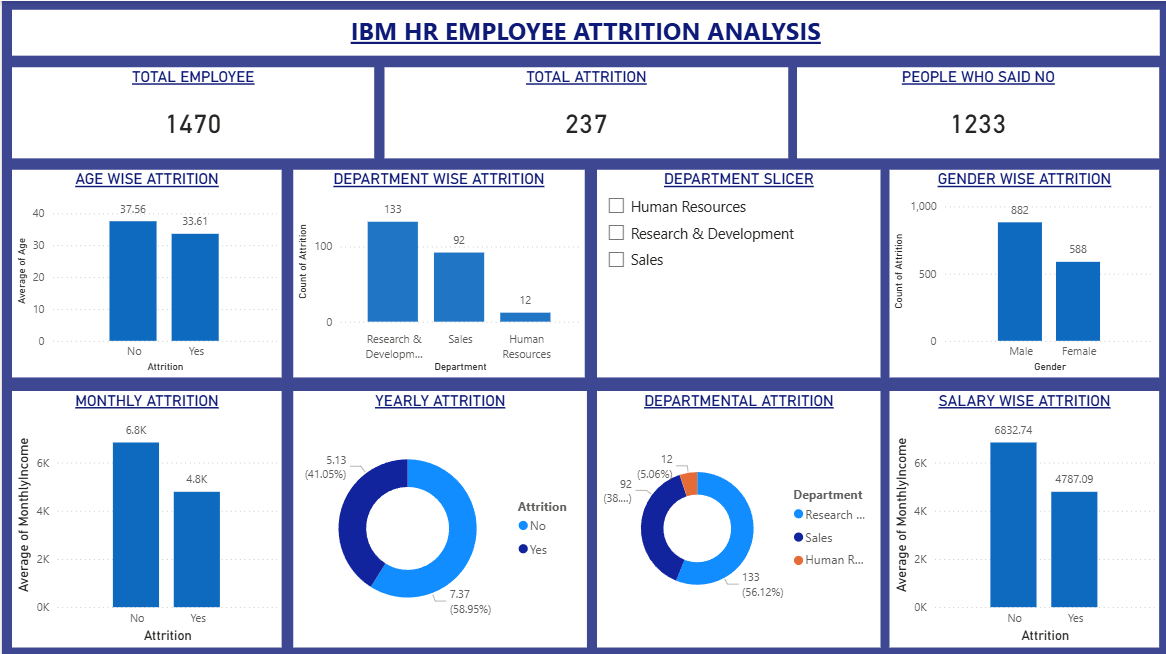

Layout of this report page (visuals, bound fields, positions):
{"tool":"powerbi","page":{"name":"Page 1","canvas":[1280,720],"ordinal":0},"visuals":[{"type":"clusteredColumnChart","title":"AGE WISE ATTRITION","fields":{"Category":["clean_hr.Attrition"],"Y":["Avg(clean_hr.Age)"]},"box":[11,185.2,296.4,227.8],"z":0},{"type":"donutChart","title":"DEPARTMENTAL ATTRITION","fields":{"Y":["CountNonNull(clean_hr.Attrition)"],"Category":["clean_hr.Department"]},"box":[653.2,428.1,311.5,281.3],"z":1000},{"type":"clusteredColumnChart","title":"MONTHLY ATTRITION","fields":{"Category":["clean_hr.Attrition"],"Y":["Avg(clean_hr.MonthlyIncome)"]},"box":[11,428.1,296.4,281.3],"z":2000},{"type":"card","title":"TOTAL EMPLOYEE","fields":{"Values":["CountNonNull(clean_hr.Attrition)"]},"box":[11,72.7,397.9,100.2],"z":3000},{"type":"card","title":"TOTAL ATTRITION","fields":{"Values":["CountNonNull(clean_hr.Attrition)"]},"box":[419.9,72.7,443.2,100.2],"z":4000},{"type":"card","title":"PEOPLE WHO SAID NO","fields":{"Values":["CountNonNull(clean_hr.Attrition)"]},"box":[872.7,72.7,397.9,100.2],"z":5000},{"type":"columnChart","title":"DEPARTMENT WISE ATTRITION","fields":{"Category":["clean_hr.Department"],"Y":["CountNonNull(clean_hr.Attrition)"]},"box":[319.7,185.2,319.7,227.8],"z":6000},{"type":"clusteredColumnChart","title":"SALARY WISE ATTRITION","fields":{"Category":["clean_hr.Attrition"],"Y":["Avg(clean_hr.MonthlyIncome)"]},"box":[974.3,428.1,296.4,281.3],"z":7000},{"type":"columnChart","title":"GENDER WISE ATTRITION","fields":{"Category":["clean_hr.Gender"],"Y":["CountNonNull(clean_hr.Attrition)"]},"box":[974.3,185.2,296.4,227.8],"z":8000},{"type":"donutChart","title":"YEARLY ATTRITION","fields":{"Category":["clean_hr.Attrition"],"Y":["Avg(clean_hr.YearsAtCompany)"]},"box":[319.7,428.1,322.5,281.3],"z":9000},{"type":"textbox","box":[11,9.6,1259.7,50.8],"z":10000},{"type":"slicer","title":"DEPARTMENT SLICER","fields":{"Values":["clean_hr.Department"]},"box":[653.2,185.2,311.5,227.8],"z":11000}]}

Visuals, with their boxes in screenshot pixels (x1, y1, x2, y2), scaled from the page's 1280x720 canvas onto the 1166x654 screenshot:
"AGE WISE ATTRITION" clusteredColumnChart: x1=10 y1=168 x2=280 y2=375
"DEPARTMENTAL ATTRITION" donutChart: x1=595 y1=389 x2=879 y2=644
"MONTHLY ATTRITION" clusteredColumnChart: x1=10 y1=389 x2=280 y2=644
"TOTAL EMPLOYEE" card: x1=10 y1=66 x2=372 y2=157
"TOTAL ATTRITION" card: x1=383 y1=66 x2=786 y2=157
"PEOPLE WHO SAID NO" card: x1=795 y1=66 x2=1157 y2=157
"DEPARTMENT WISE ATTRITION" columnChart: x1=291 y1=168 x2=582 y2=375
"SALARY WISE ATTRITION" clusteredColumnChart: x1=888 y1=389 x2=1158 y2=644
"GENDER WISE ATTRITION" columnChart: x1=888 y1=168 x2=1158 y2=375
"YEARLY ATTRITION" donutChart: x1=291 y1=389 x2=585 y2=644
textbox: x1=10 y1=9 x2=1158 y2=55
"DEPARTMENT SLICER" slicer: x1=595 y1=168 x2=879 y2=375
